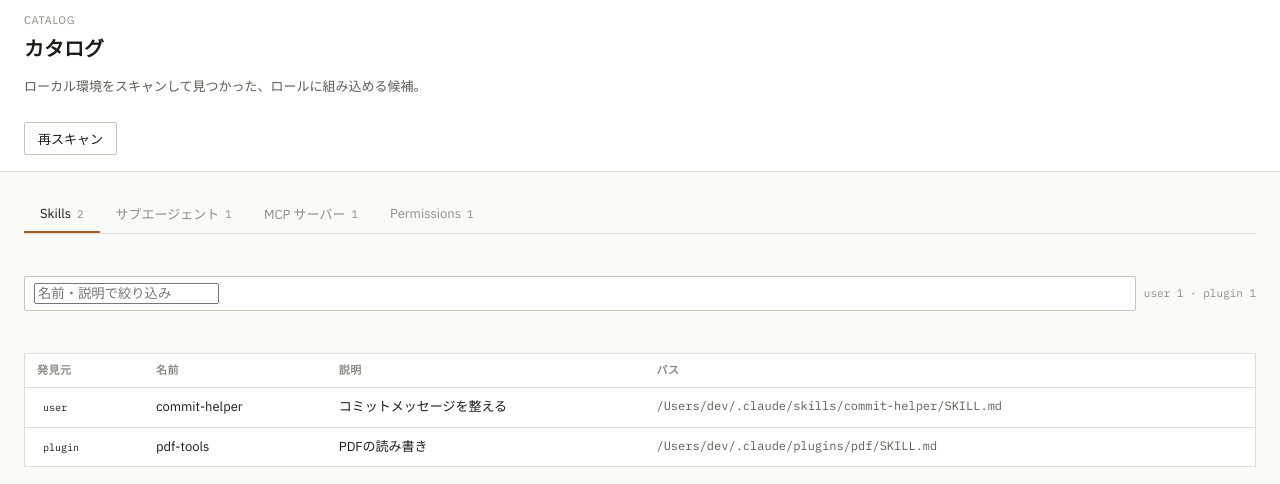
Test: Catalog › switching tabs loads that resource
Expected: the text "commit-helper" is shown, x1=144 y1=388 x2=327 y2=427
Click the tab "サブエージェント 1": (174, 215) x1=100 y1=196 x2=248 y2=233
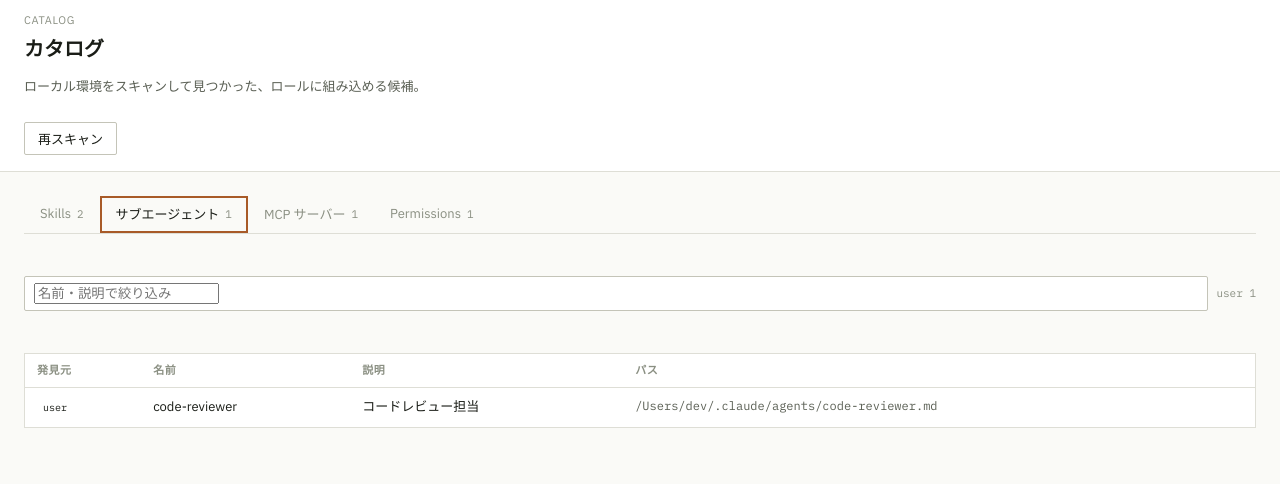
Now the text "code-reviewer" is shown, box x1=141 y1=388 x2=350 y2=427
Now the text "commit-helper" is gone
